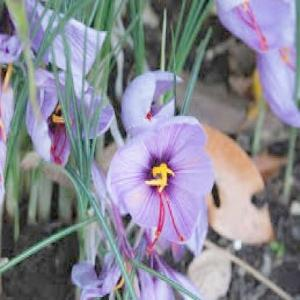Saffron: (111, 121, 210, 249), (24, 63, 116, 171)
